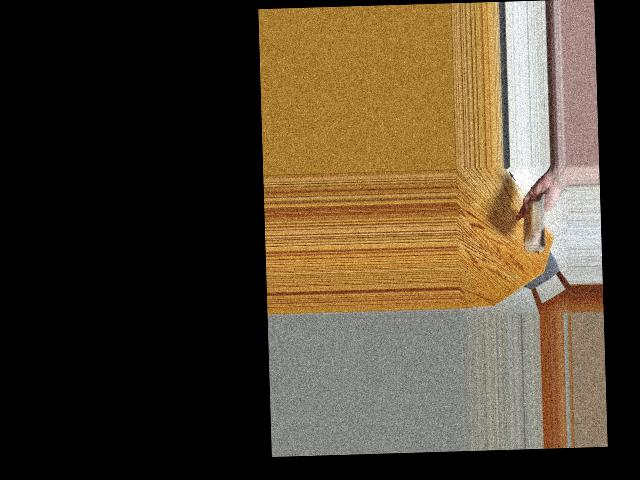cheese: (520, 197, 556, 249)
